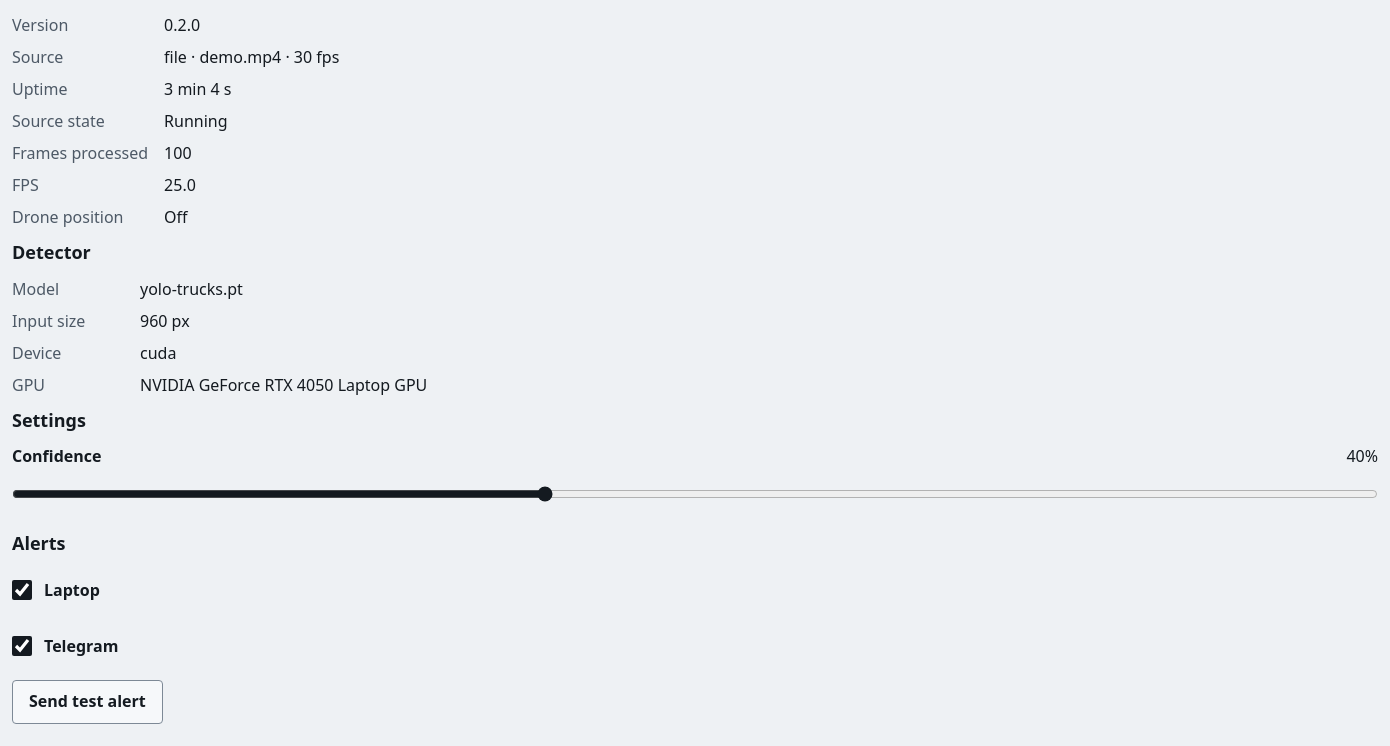
Test: send test alert shows the channels it was queued for
This screenshot has width=1390, height=746.
Later steps or results of the test are not shown.
Click the button "Send test alert" at point(87, 702), box 12,680 -> 163,724
(page scrolled)
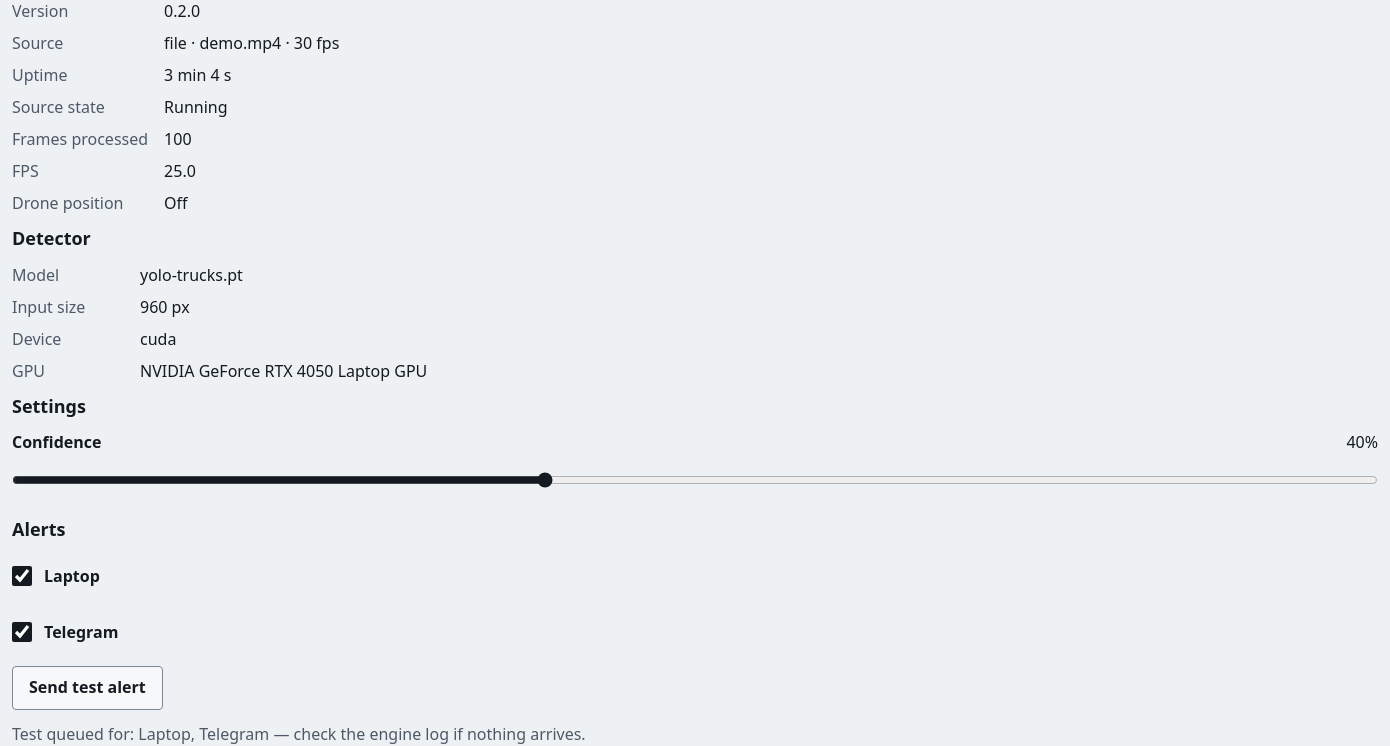
Expected: the button "Send test alert" is enabled, 12,666 -> 163,710
Result: the text "Test queued for: Laptop, Telegram — check the engine log if nothing arrives." is shown at 12,723 -> 586,745
